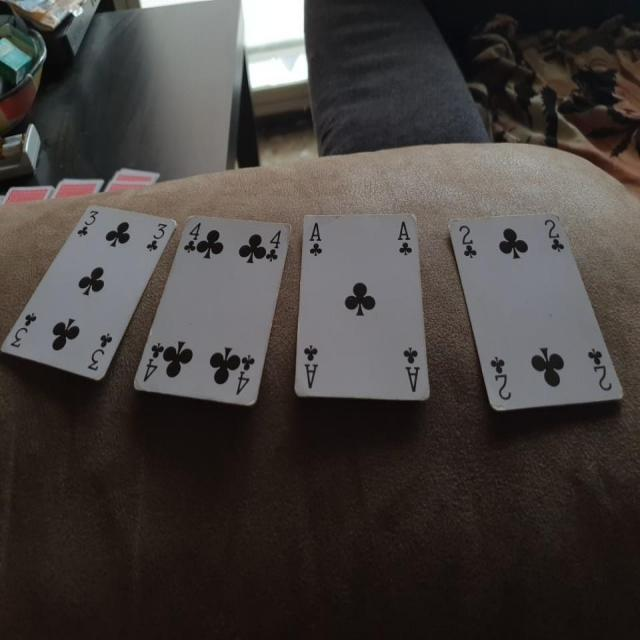2 Trefoils: (448, 213, 626, 415)
3 Trefoils: (5, 200, 176, 385)
4 Trefoils: (133, 215, 289, 406)
A Trefoils: (291, 212, 430, 404)
